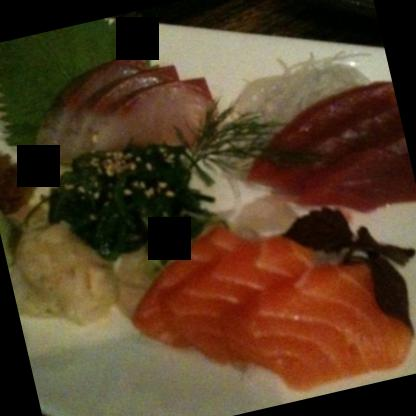salmon: (126, 183, 415, 415)
